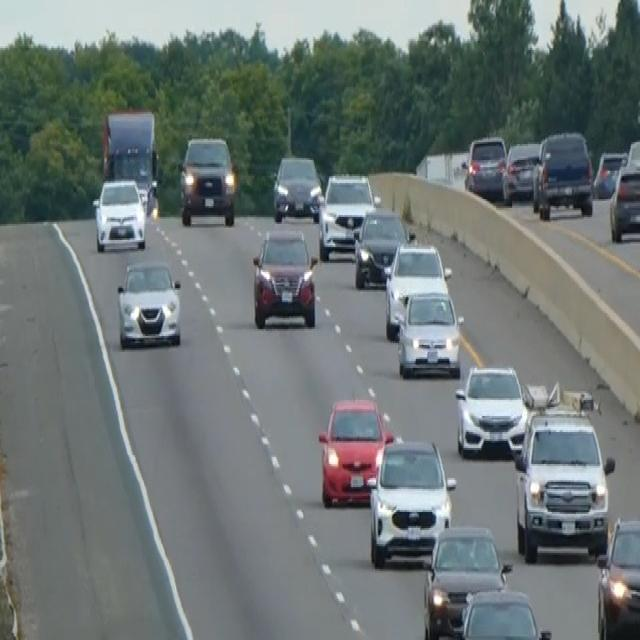car: (367, 437, 456, 567), (422, 523, 511, 638), (317, 393, 395, 507), (454, 361, 526, 459), (251, 224, 317, 329), (383, 240, 451, 338), (396, 284, 464, 378), (115, 258, 182, 348), (532, 128, 594, 220), (449, 583, 552, 638), (178, 134, 236, 228), (317, 169, 377, 259), (595, 516, 639, 638), (352, 204, 411, 288), (91, 176, 146, 252), (272, 153, 322, 222), (609, 138, 639, 242), (463, 133, 508, 199), (502, 138, 541, 204), (593, 148, 627, 198)
jeep: (511, 390, 615, 564)
lorry: (100, 107, 159, 213)
